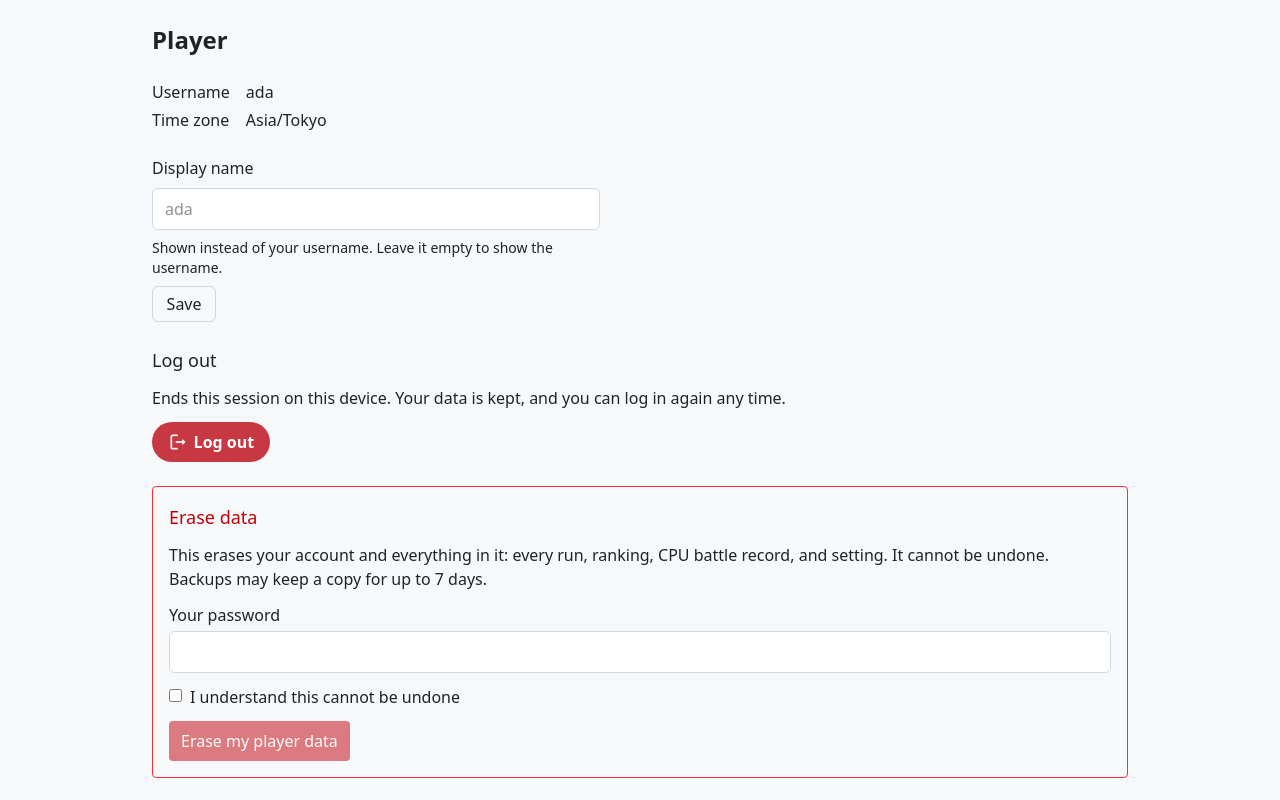
the account screen › sends the password, and on success signs out and goes to sign-in with a notice
Step 1. Type "correct horse battery staple" into the password field labelled "Your password" → [640, 652], box [169, 631, 1111, 673]
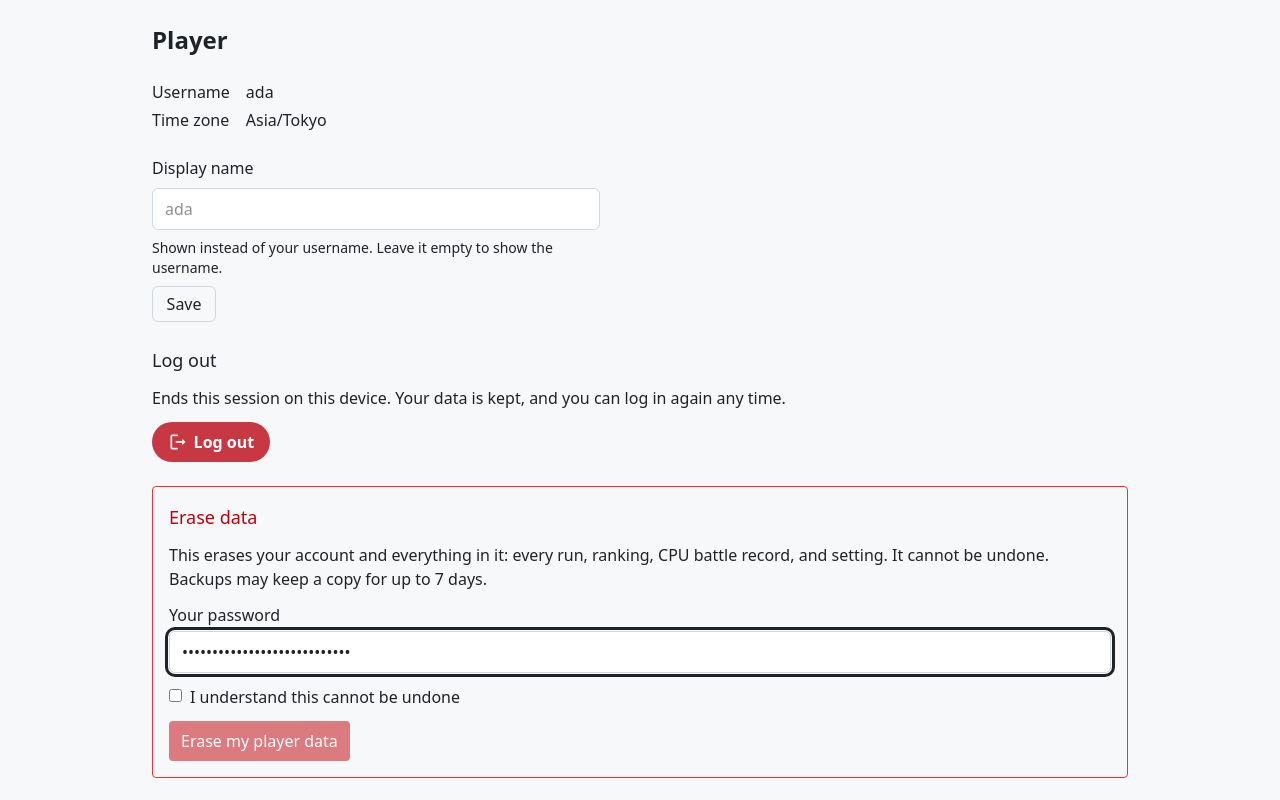
Step 2. Click the checkbox labelled "I understand this cannot be undone" → [176, 695], box [169, 689, 182, 702]
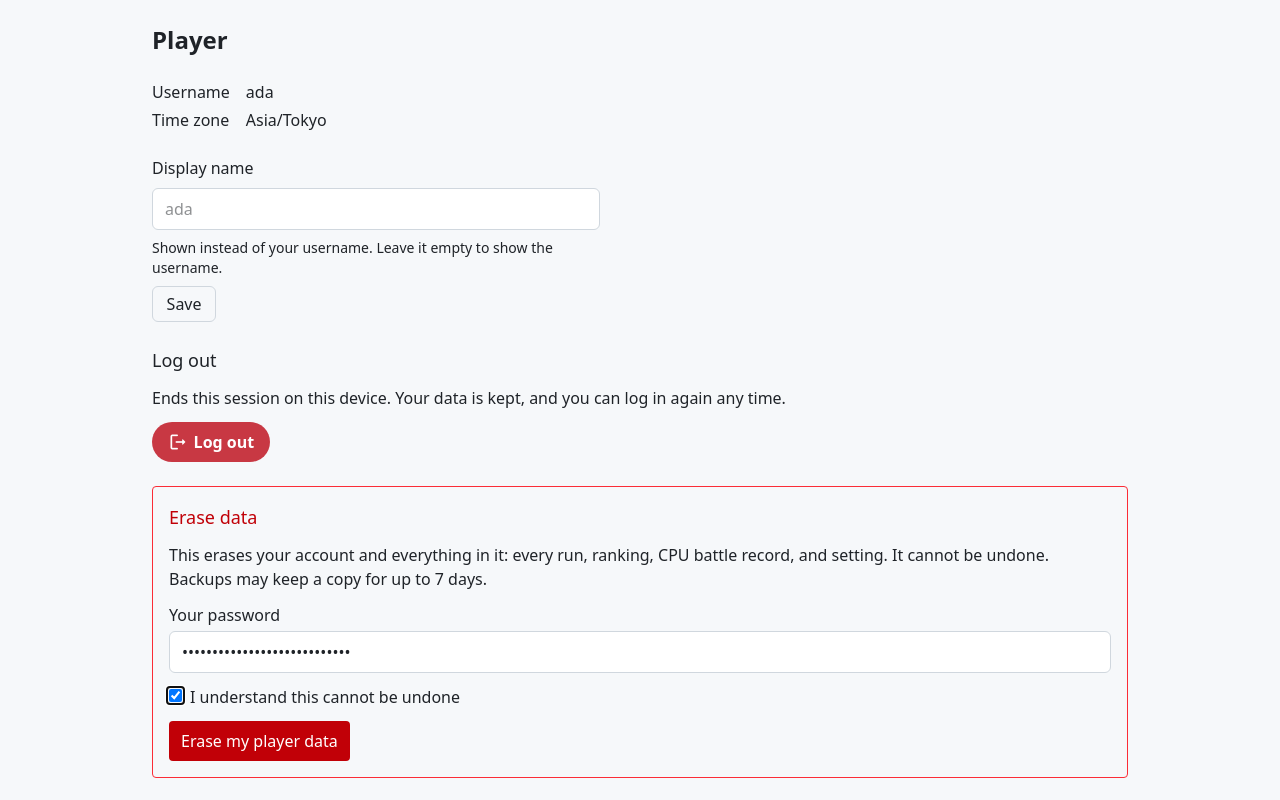
Step 3. Click the button "Erase my player data" → [259, 741], box [169, 721, 350, 761]
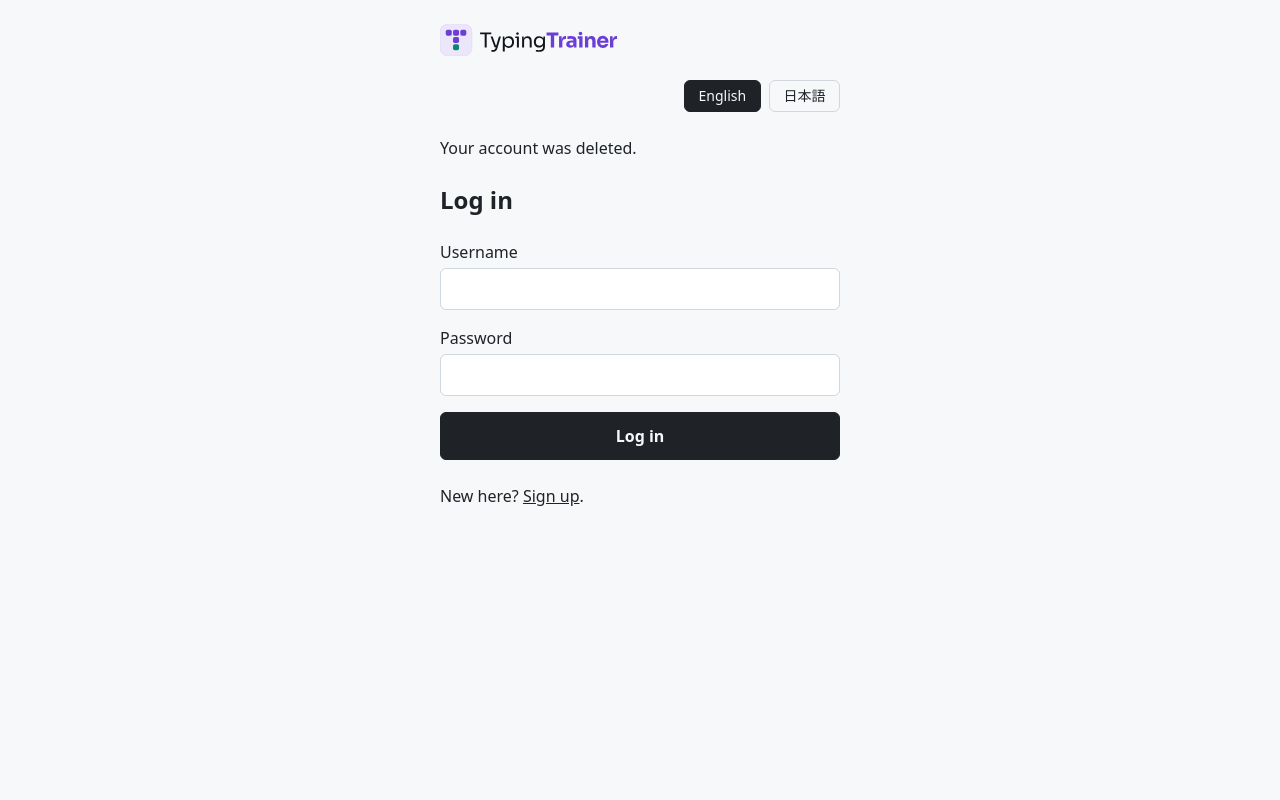
Expected: the heading "Log in" is shown, [440, 183, 513, 216]
Expected: the message reads "Your account was deleted.", [440, 137, 637, 159]
